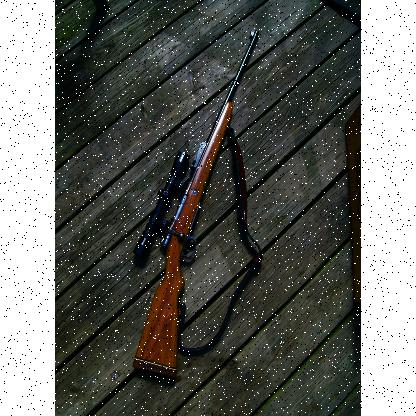gun: (122, 29, 258, 377)
